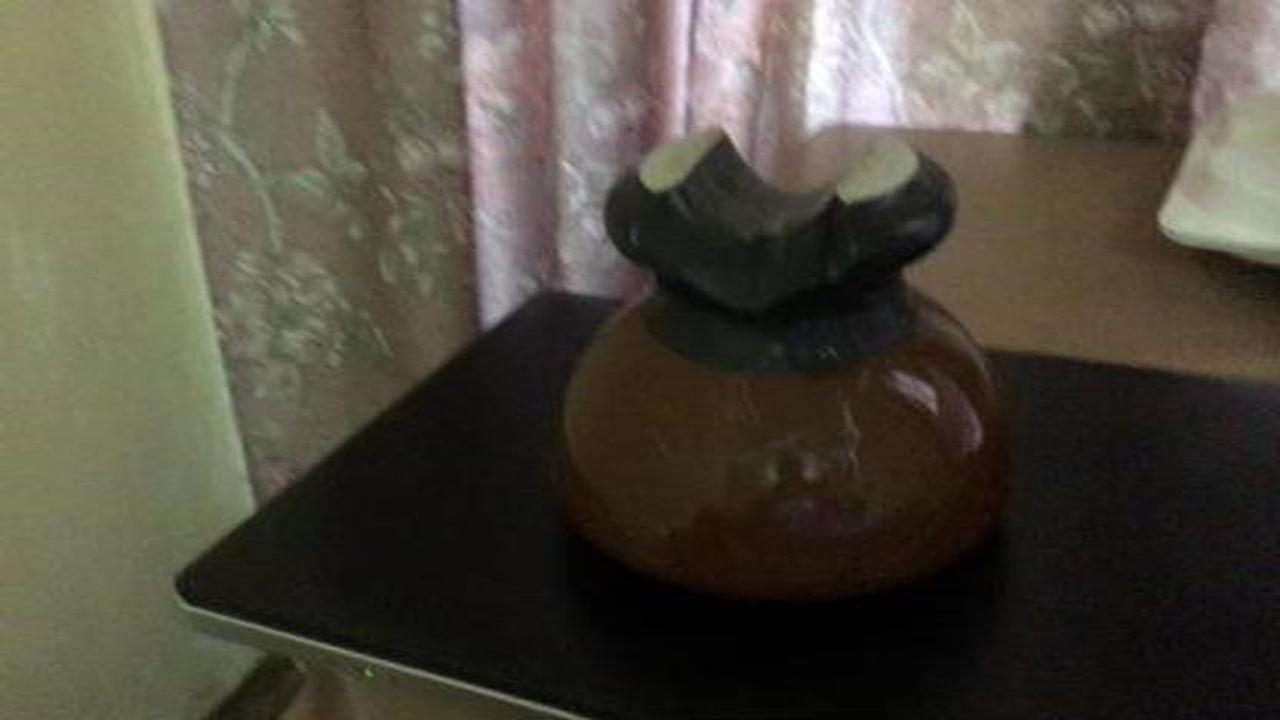insulator_pin: (542, 115, 1034, 624)
